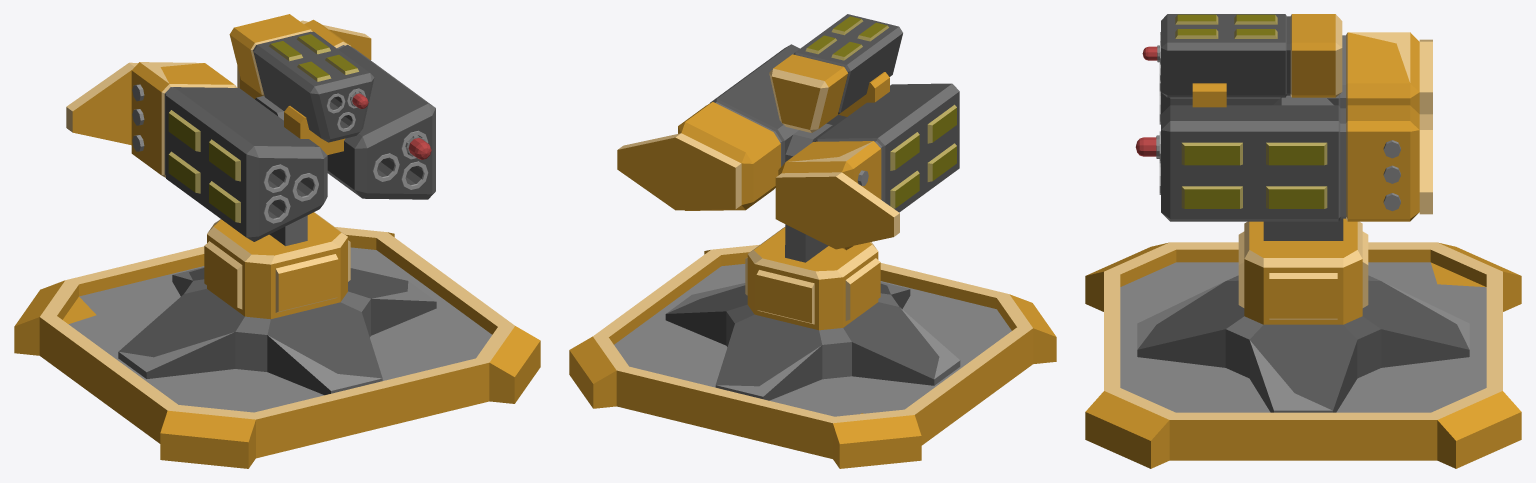
File: tower_rocket_yellow_3.fbx
3 views of the same model, side by side, from view 1: azimuth 30°, elevation 25°; view 2: azimuth 150°, elevation 25°; view 3: azimuth 270°, elevation 25° (orthographic). The views are drawn at different scales.
Parts seen in each view (by area): view 1: top_rocket_yellow_3, tower_rocket_yellow_3; view 2: top_rocket_yellow_3, tower_rocket_yellow_3; view 3: top_rocket_yellow_3, tower_rocket_yellow_3, rocket_yellow_3.
Part boxes in pixels (<box>): top_rocket_yellow_3: <box>66,14,436,395</box>; tower_rocket_yellow_3: <box>14,227,540,468</box>; top_rocket_yellow_3: <box>617,14,960,400</box>; tower_rocket_yellow_3: <box>569,244,1056,468</box>; top_rocket_yellow_3: <box>1137,14,1469,412</box>; tower_rocket_yellow_3: <box>1085,242,1521,468</box>; rocket_yellow_3: <box>1135,135,1159,158</box>.
Size of the model in its own units: 173 by 144 by 164.
